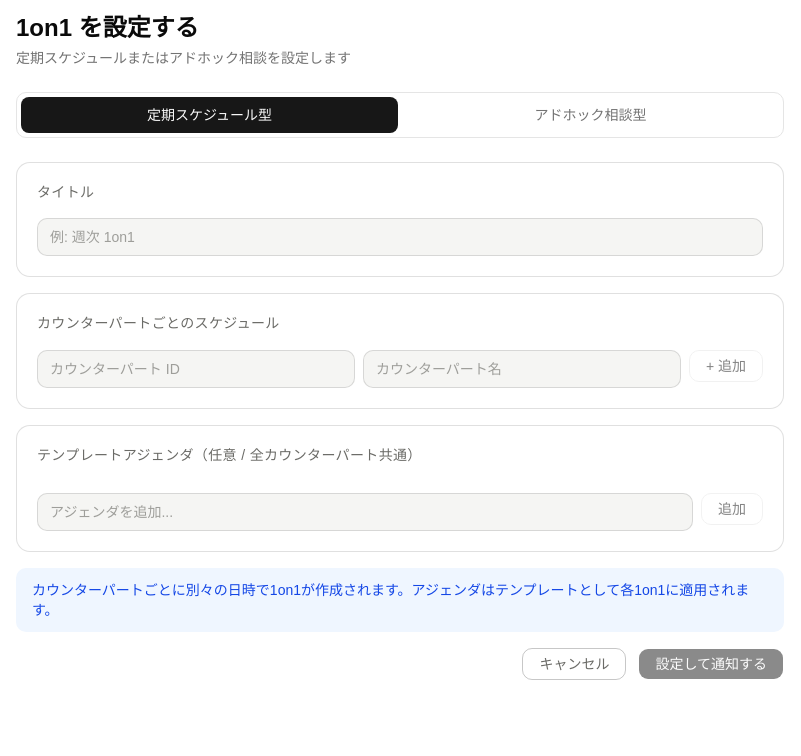
Scenario: SchedulingPage › switches back to regular form
Click the button "アドホック相談型". click: (590, 115)
box: [402,97,779,133]
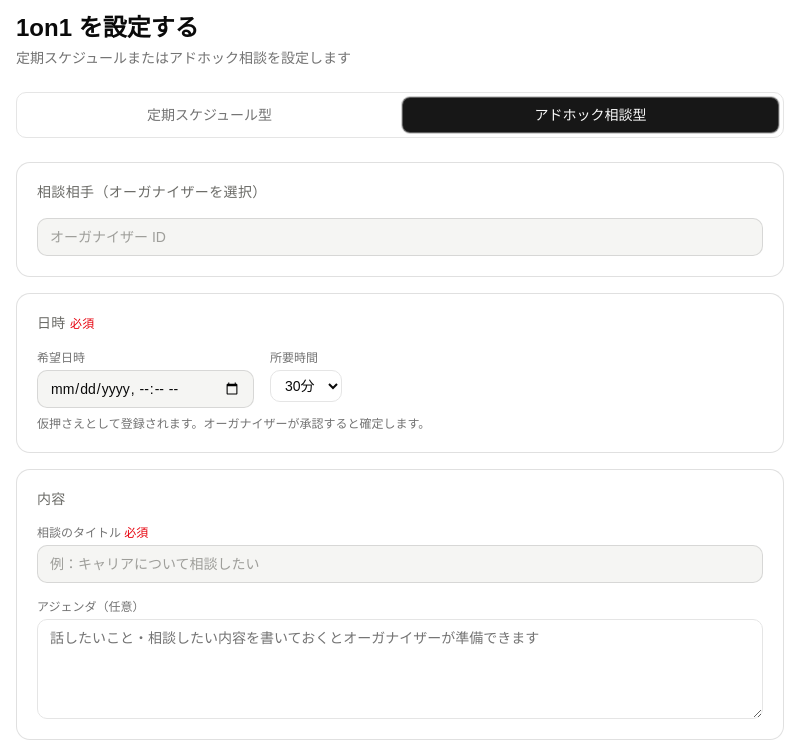
Click the button "定期スケジュール型". click: (210, 115)
box: [21,97,398,133]
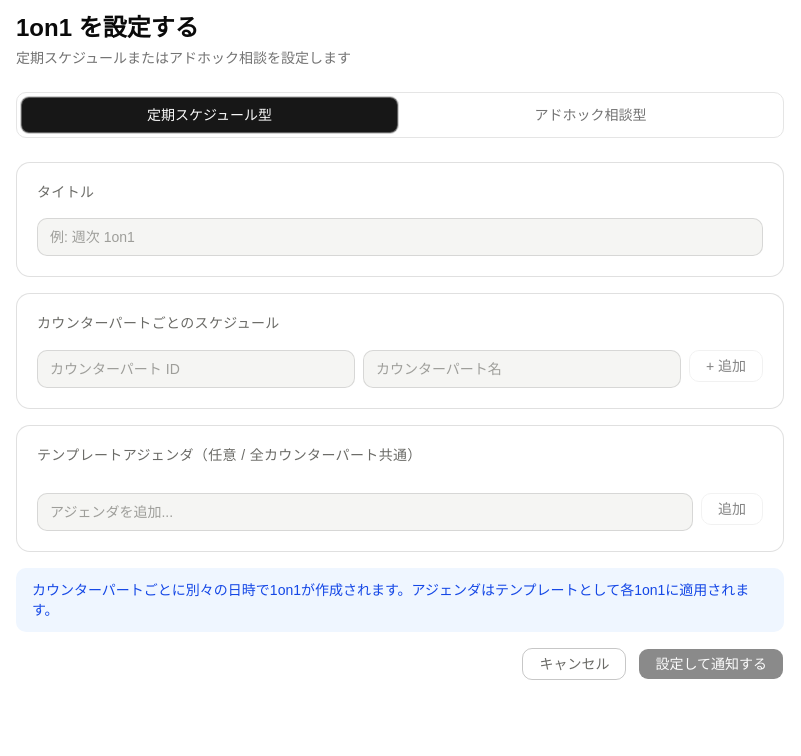
Now the text "カウンターパートごとのスケジュール" is shown, box [37,315,280,331]
